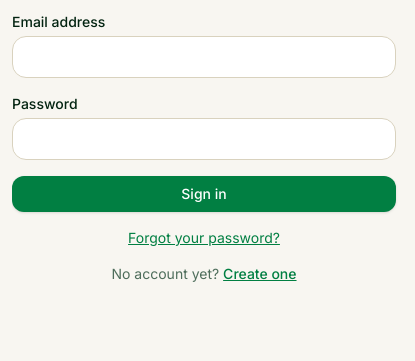
Scenario: EmailPasswordForm › registering › clears a previous error when switching mode
Type "citizen@example.com" into the field labelled "Email address" at {"x": 204, "y": 57}, box [12,36,396,78]
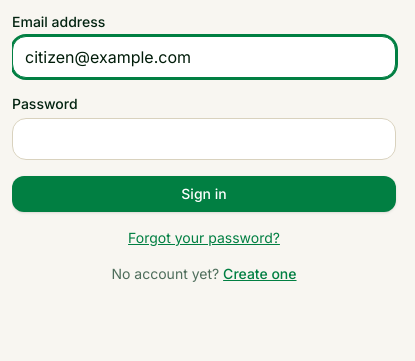
Type "correct horse battery staple" into the password field labelled "Password" at {"x": 204, "y": 139}, box [12,118,396,160]
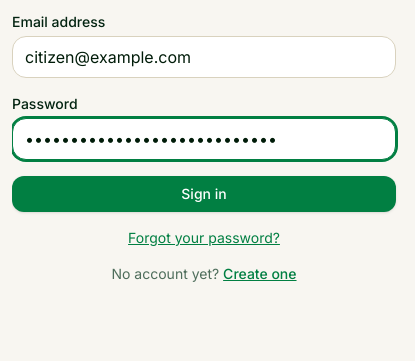
Click the button "Sign in" at {"x": 204, "y": 194}, box [12,176,396,212]
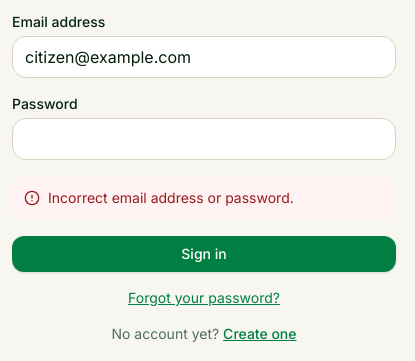
Check: the message "Incorrect email address or password." is shown, box [12,176,396,220]
Click the button "Create one" at {"x": 260, "y": 334}, box [223,324,296,344]
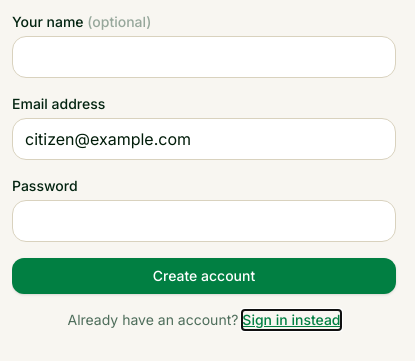
Check: the message "Incorrect email address or password." is gone
